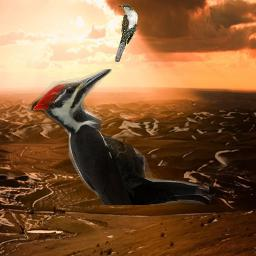Cuckoo: (115, 4, 138, 62)
Woodpecker: (21, 69, 221, 205)
